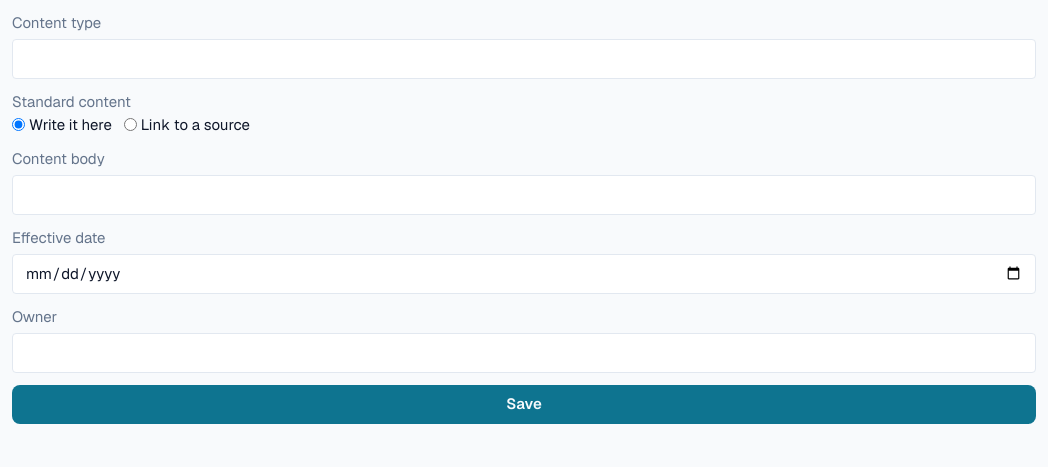
StandardForm › shows a generic error (not silent, not false-success) on a 500 with an empty body
This screenshot has width=1048, height=467.
Type "acme.tone" into the field labelled "Content type" at (524, 59), box [12, 38, 1036, 79]
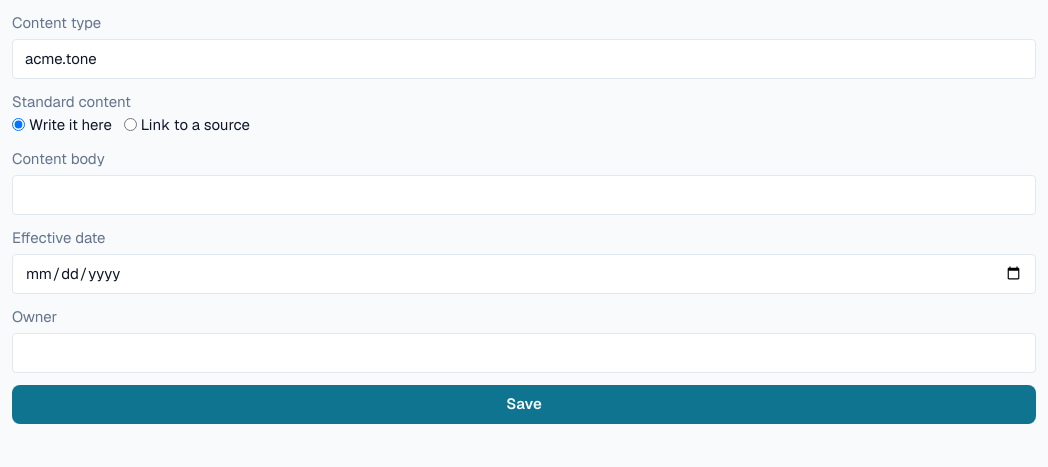
Type "Be direct." into the field labelled "Content body" at (524, 195), box [12, 174, 1036, 215]
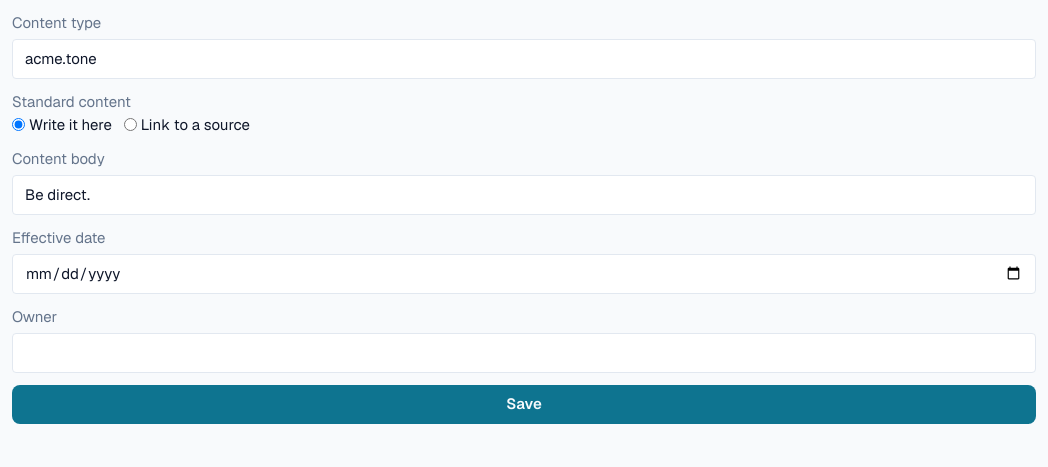
Type "2026-01-01" into the date field labelled "Effective date" at (524, 274), box [12, 254, 1036, 294]
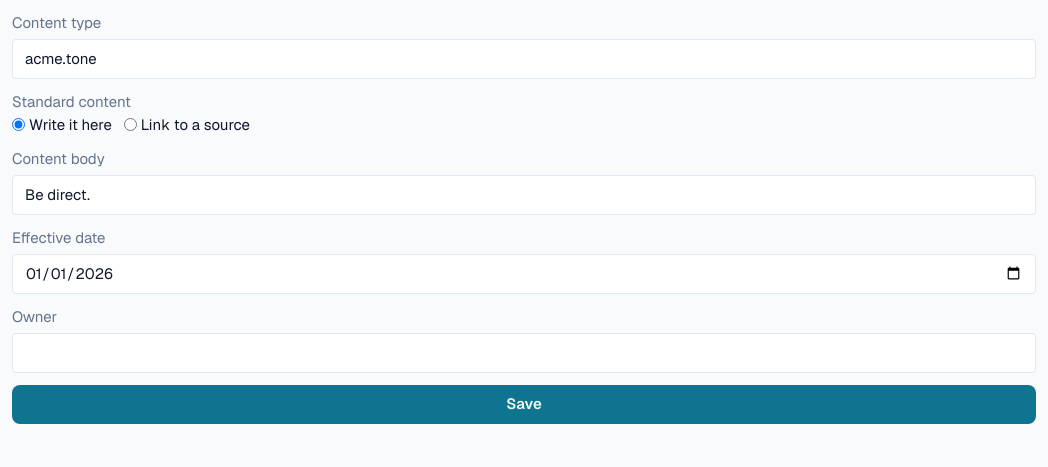
Type "Jane" into the field labelled "Owner" at (524, 353), box [12, 332, 1036, 373]
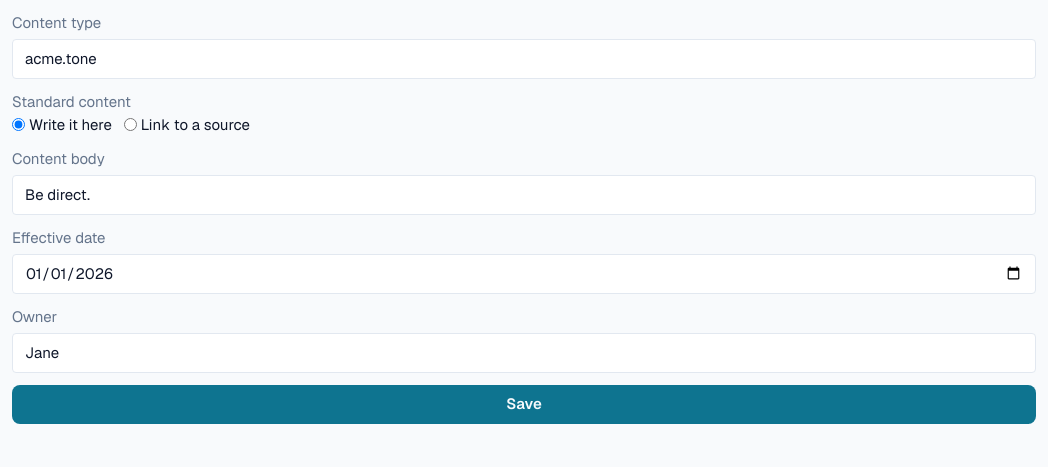
Click the button "Save" at (524, 404), box [12, 385, 1036, 424]
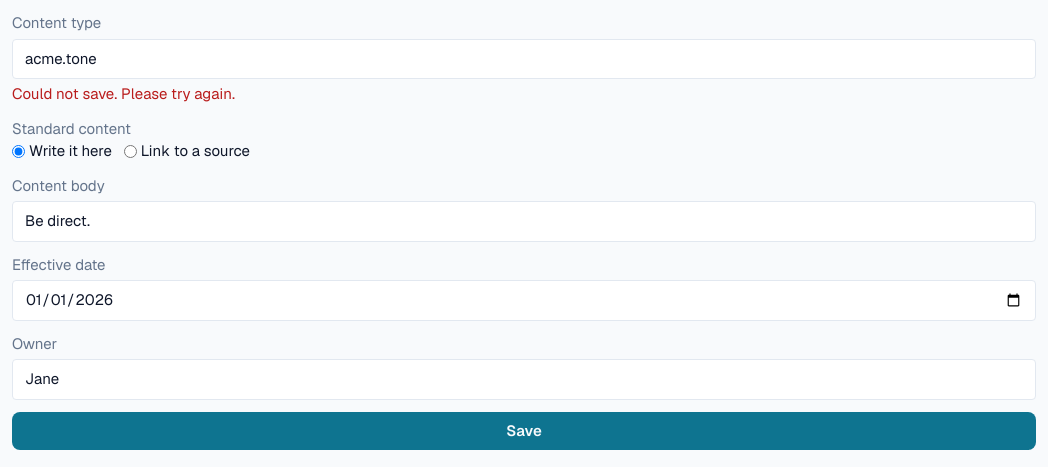
Expected: the button "Save" is enabled, [12, 412, 1036, 450]
Expected: the text "Could not save. Please try again." is shown, [12, 84, 235, 103]
